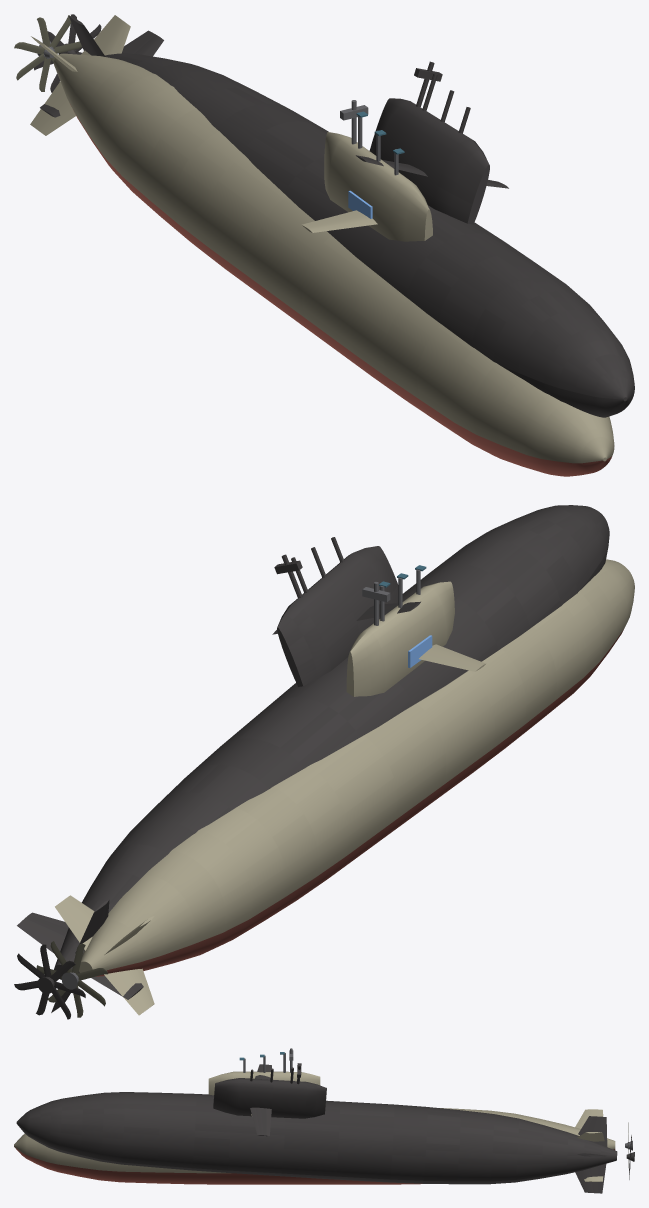
File: submarine__type_212a.glb
The picture shows the model from 3 angles, top to bottom: view 1: azimuth 30°, elevation 25°; view 2: azimuth 150°, elevation 25°; view 3: azimuth 270°, elevation 25°; orthographic projection. The views are drawn at different scales.
Parts seen in each view (by area): view 1: Hull_Mesh, Wreck; view 2: Hull_Mesh, Wreck; view 3: Wreck, Hull_Mesh.
Part boxes in pixels (left/top/right/bottom): Hull_Mesh: left=14, top=15, right=614, bottom=476; Wreck: left=34, top=14, right=634, bottom=417; Hull_Mesh: left=36, top=559, right=634, bottom=1017; Wreck: left=14, top=505, right=609, bottom=1019; Wreck: left=16, top=1063, right=634, bottom=1193; Hull_Mesh: left=14, top=1052, right=632, bottom=1184.
Size of what is drawn, in the model's own units: 11.47 by 13.74 by 55.52.
